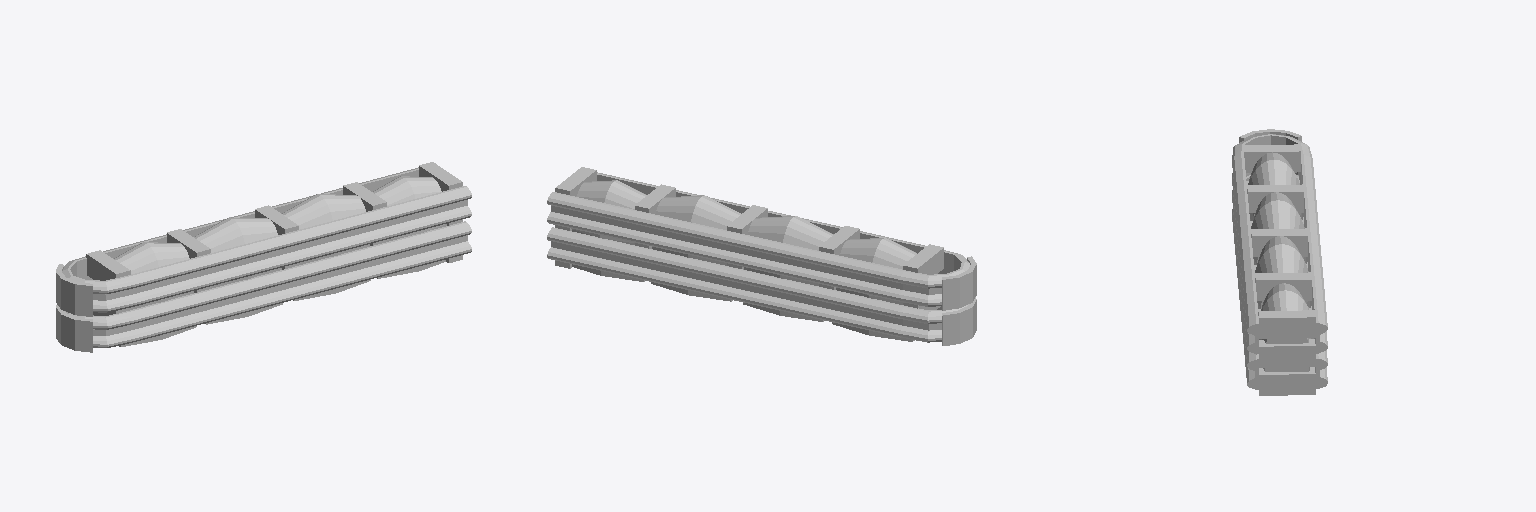
The model's file is Road8_2_8.obj.
The picture shows the model from 3 angles: view 1: azimuth 30°, elevation 25°; view 2: azimuth 150°, elevation 25°; view 3: azimuth 270°, elevation 25°; orthographic projection.
Visible parts, largest first — view 1: GSDAtten_Static(Clone); view 2: GSDAtten_Static(Clone); view 3: GSDAtten_Static(Clone).
Boxes of the visible parts, box(x1,y1,x2,y2) form: GSDAtten_Static(Clone): box(56, 162, 471, 352); GSDAtten_Static(Clone): box(547, 167, 976, 345); GSDAtten_Static(Clone): box(1232, 129, 1327, 395).
Bounding box in the file's own units: 3.98 × 0.8398 × 0.8287.